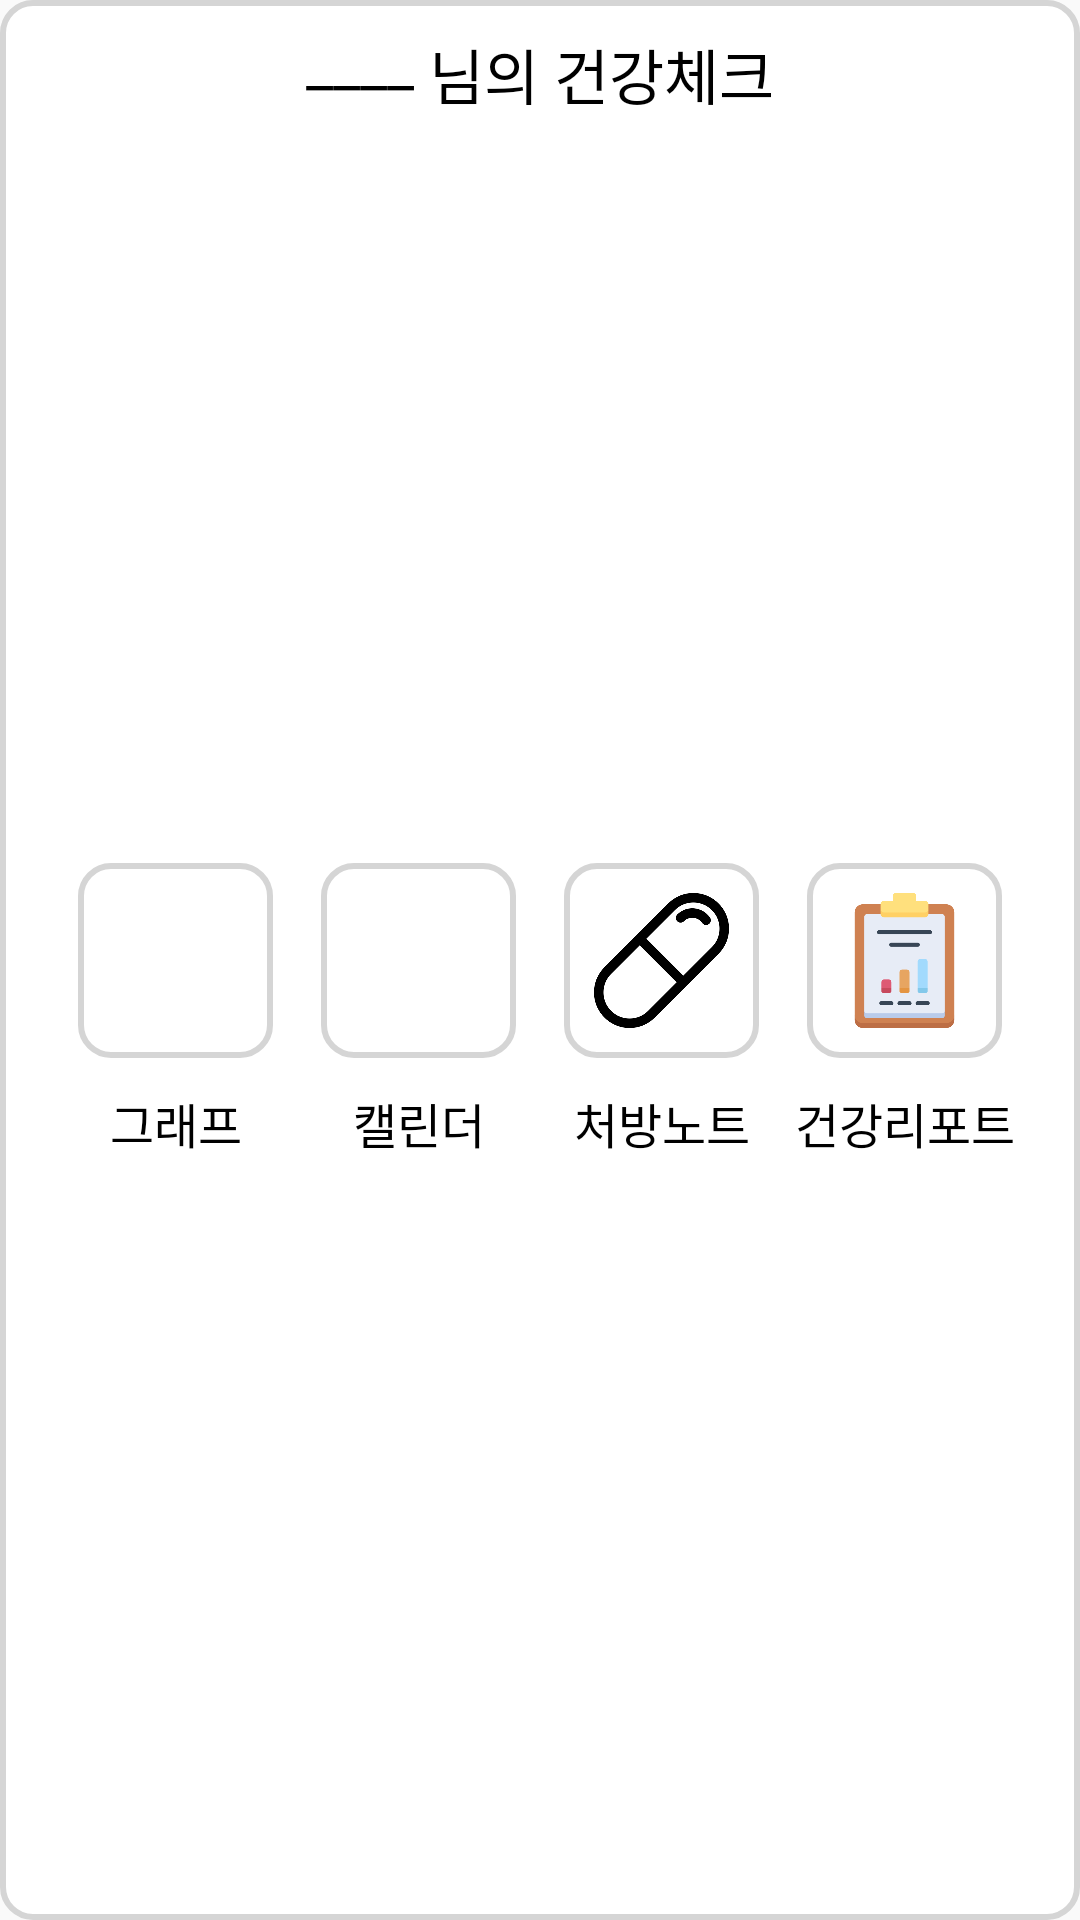

Icon bounding boxes for this 1080*1920 phone screenshot, format [x1,y1,x2,y2]:
share prescription: [564,863,759,1058]
share report: [807,863,1002,1058]
